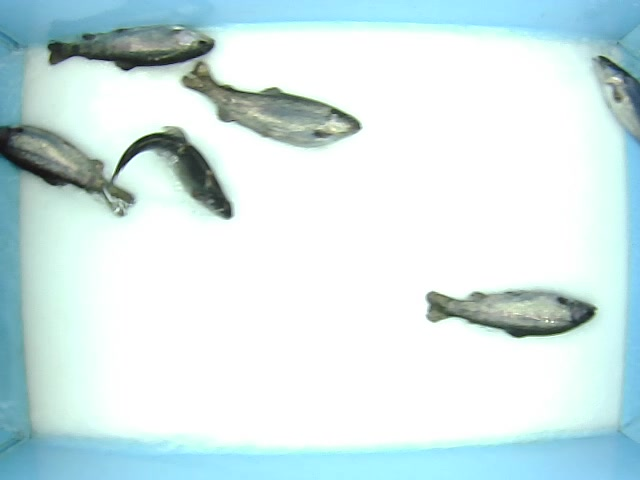fish: (178, 59, 363, 150), (1, 118, 137, 219), (107, 124, 236, 221), (423, 288, 598, 339), (44, 21, 215, 73)
